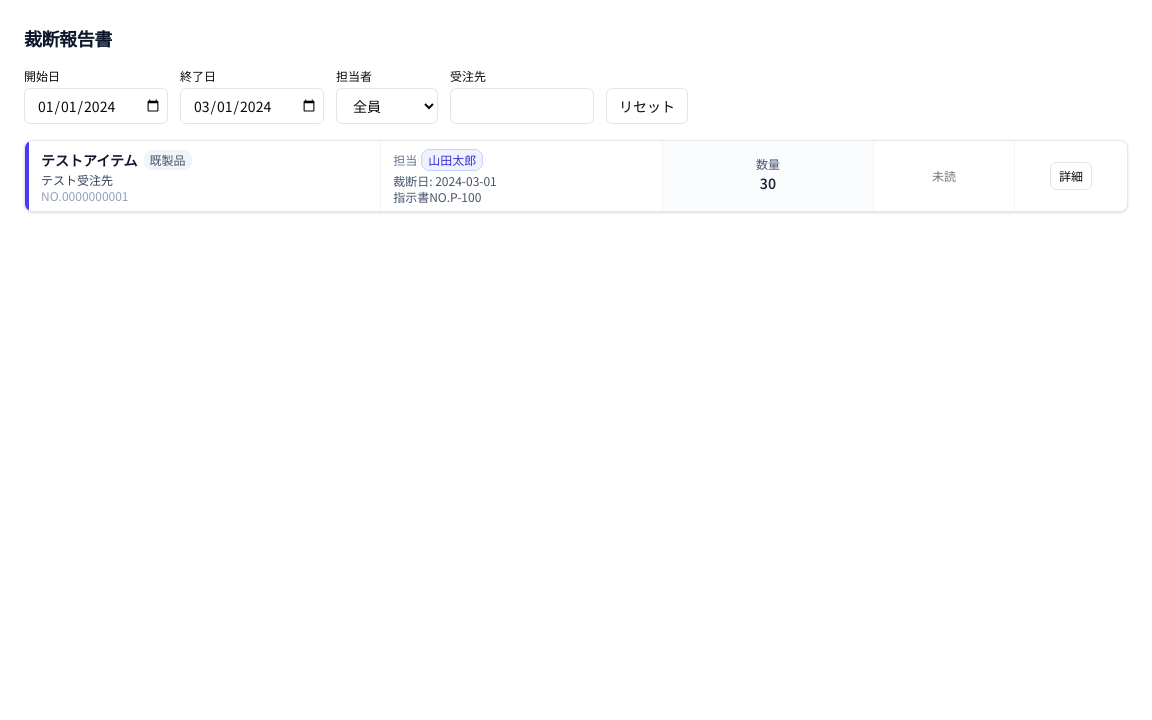
Test: CuttingReportListTable › 詳細ダイアログの編集ボタンを押すと編集フォームが開く
Click the button "詳細" at (1071, 176), box [1050,162,1092,190]
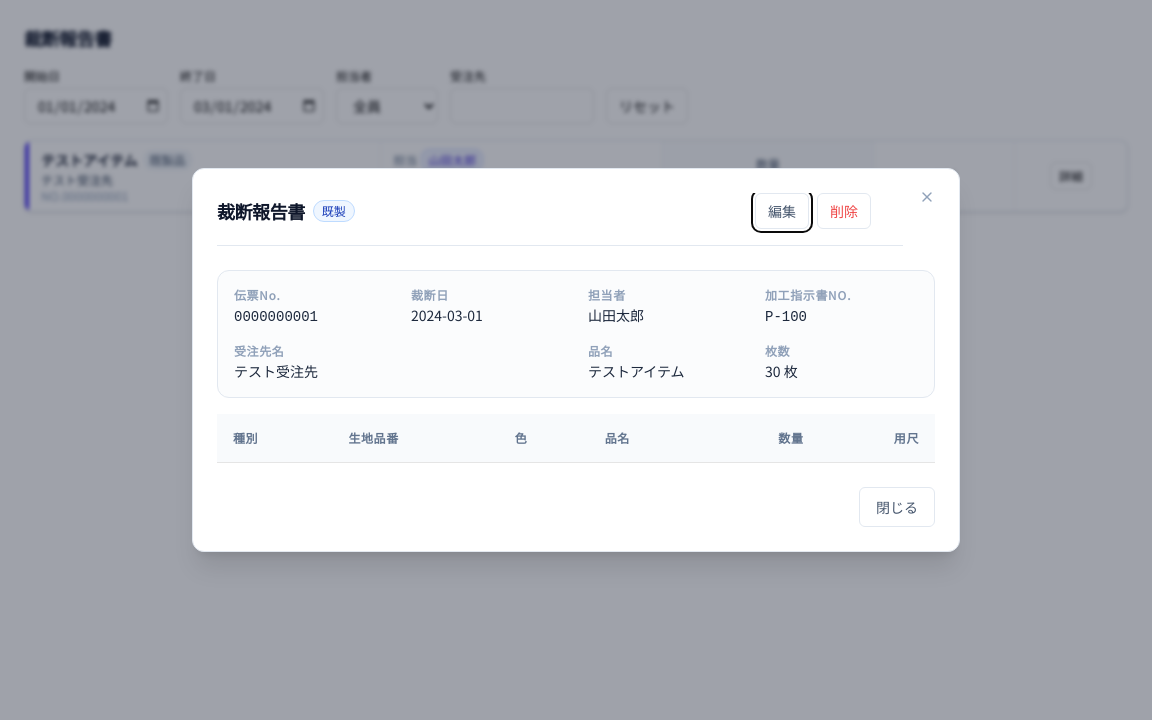
Click the button "編集" at (782, 211), box [755,193,809,229]
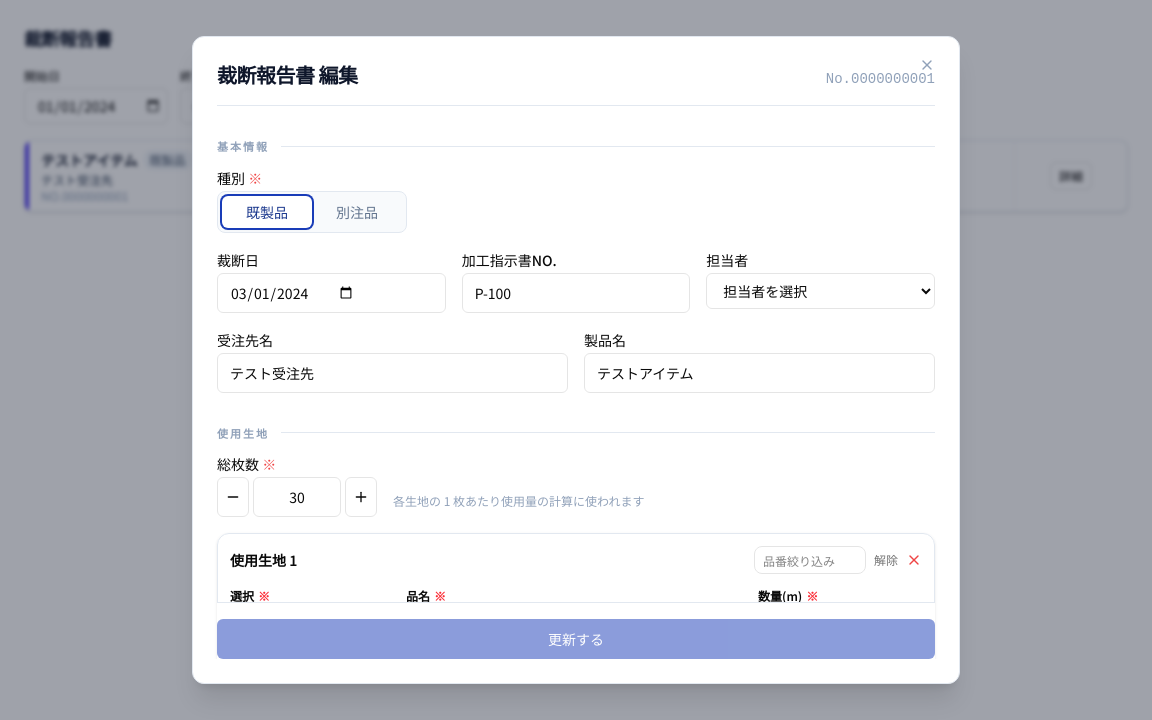
Result: the heading "裁断報告書 編集" is shown at [217,61,358,89]
